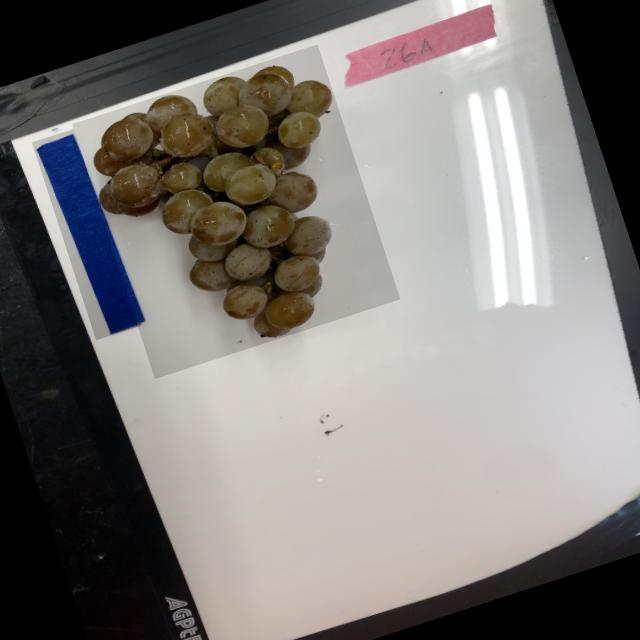grape_cluster: (73, 44, 401, 380)
index: (333, 2, 508, 92)
measure_label: (32, 125, 149, 340)
